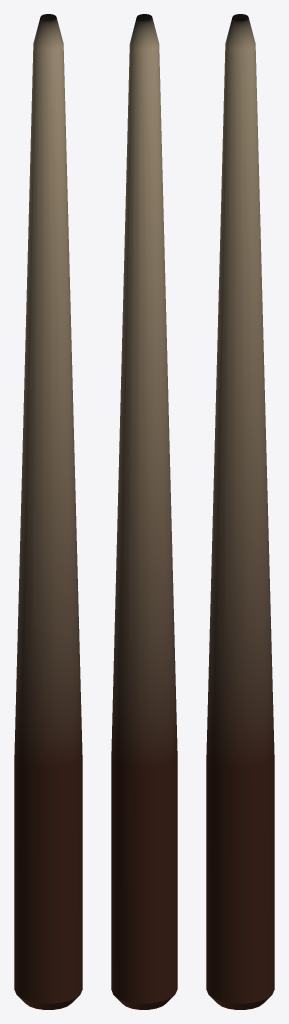
File: PoolQ.fbx
3 renders of one model, left to right at view 1: azimuth 90°, elevation 25°; view 2: azimuth 150°, elevation 25°; view 3: azimuth 270°, elevation 25°, orthographic.
Visible parts, largest first — view 1: Cylinder; view 2: Cylinder; view 3: Cylinder.
Boxes of the visible parts, x1,y1,x2,y2 form: Cylinder: [14, 14, 82, 1009]; Cylinder: [111, 14, 177, 1009]; Cylinder: [206, 14, 274, 1009].
Size of the model in its own units: 95.1 by 1596 by 100.
